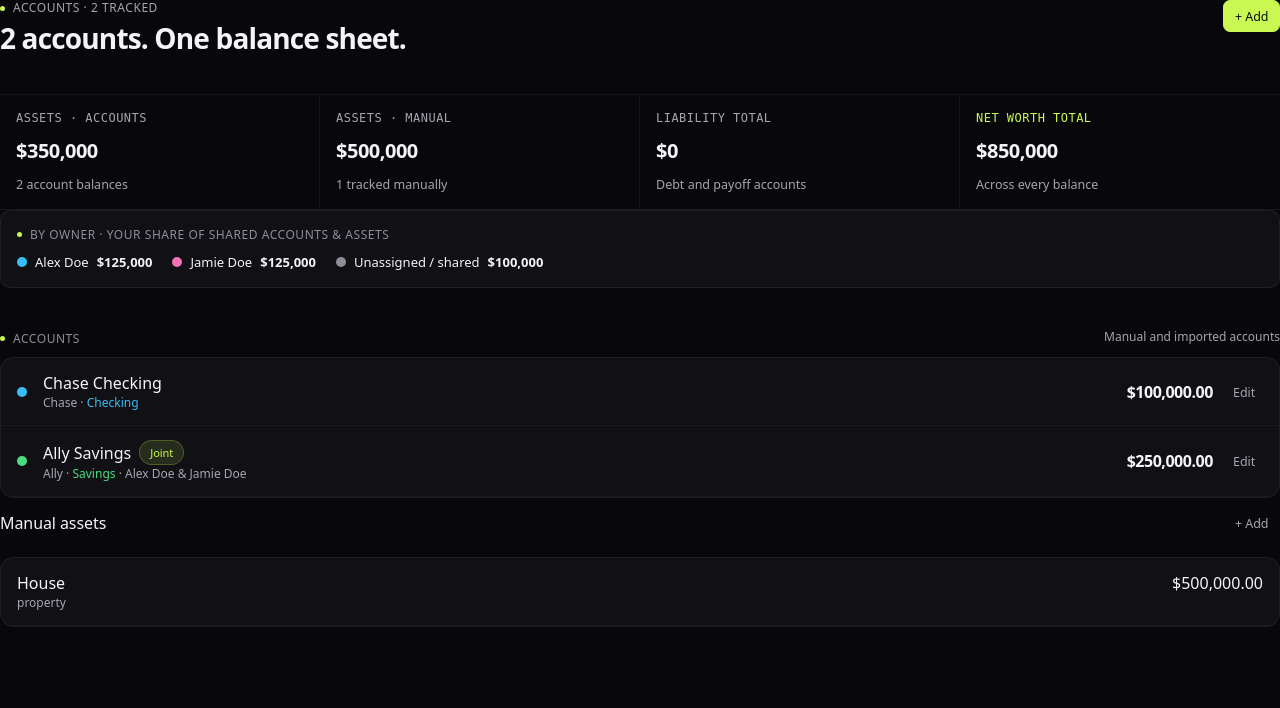
Scenario: Accounts — navigation › opens the unified Add chooser and routes each choice to its drawer
Click the button with aria-label "Add account, asset, or liability". click: click(1251, 16)
box: [1222, 0, 1279, 32]
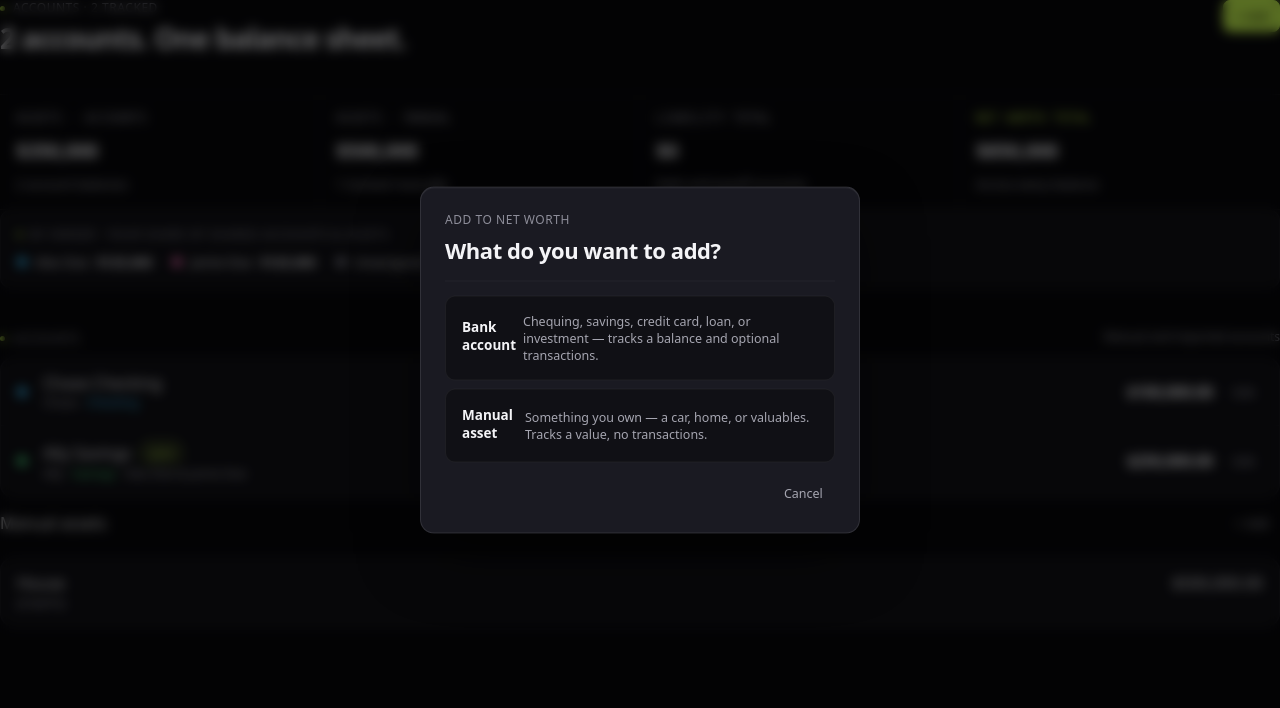
Now the heading "What do you want to add?" is shown, box [445, 234, 721, 264]
Picking "Bank account" closes the chooser and opens the account drawer.
Click the button "Bank account". click: click(640, 338)
box: [445, 295, 835, 380]
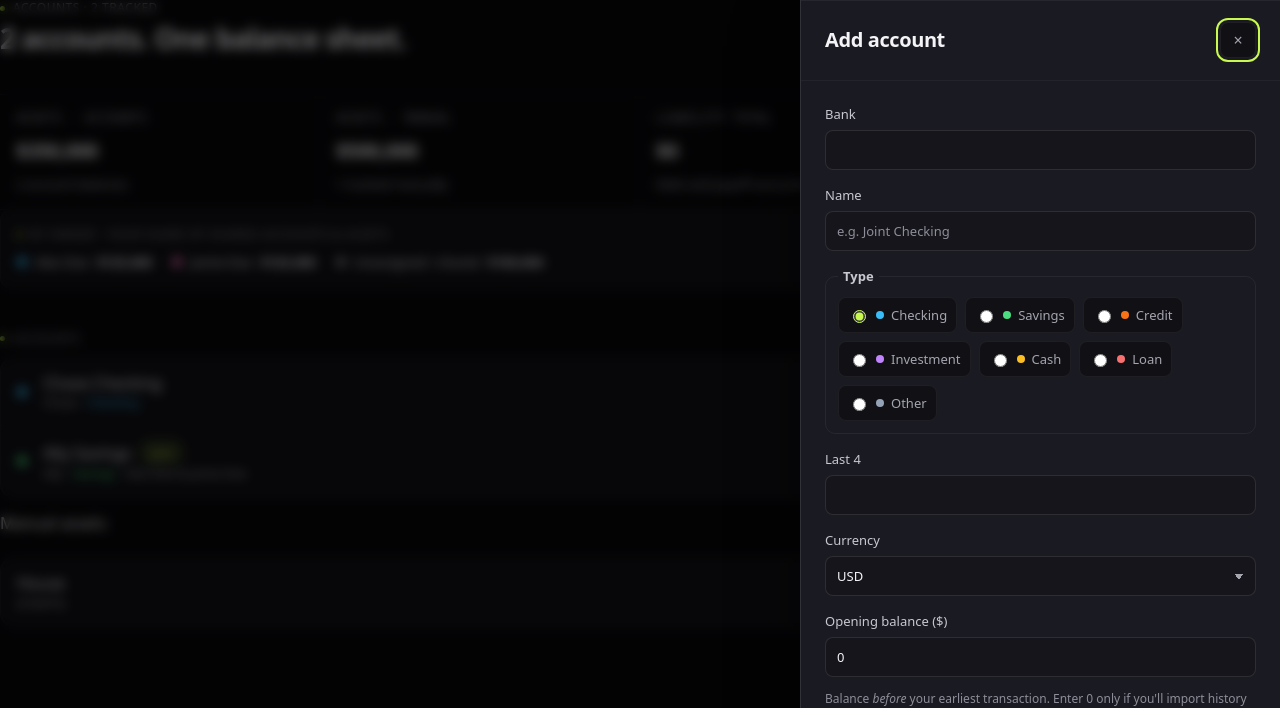
Now the heading "What do you want to add?" is gone
Now the heading "Add account" is shown, box [825, 28, 945, 52]
